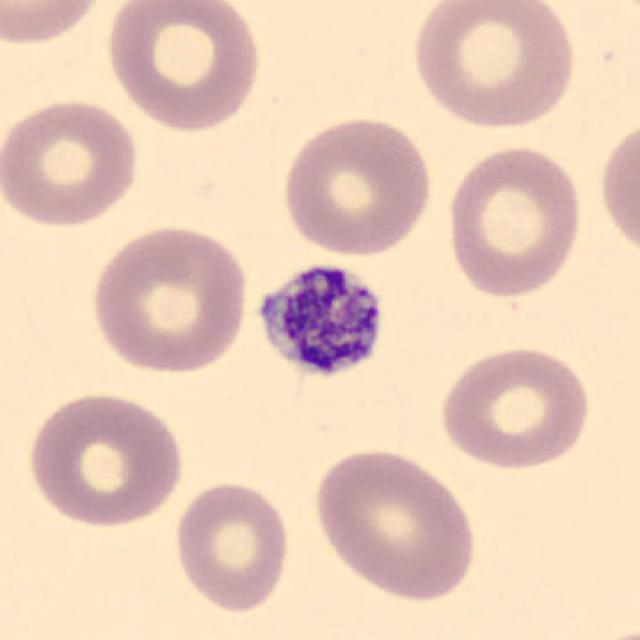Platelets: (247, 254, 389, 388)
RBC: (309, 442, 482, 604), (85, 220, 252, 376), (22, 388, 188, 531), (278, 111, 438, 259), (441, 141, 587, 302), (407, 0, 581, 132), (101, 0, 265, 134), (436, 340, 596, 472), (2, 93, 144, 230), (169, 476, 293, 615), (596, 110, 638, 264), (0, 0, 110, 49), (574, 620, 638, 640), (599, 0, 640, 26)
